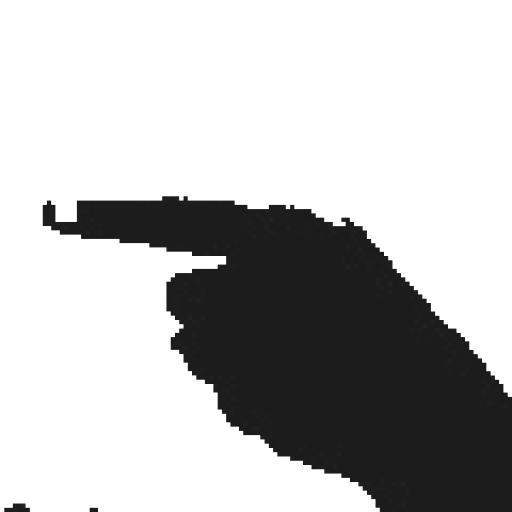index_left: (42, 193, 512, 405)
